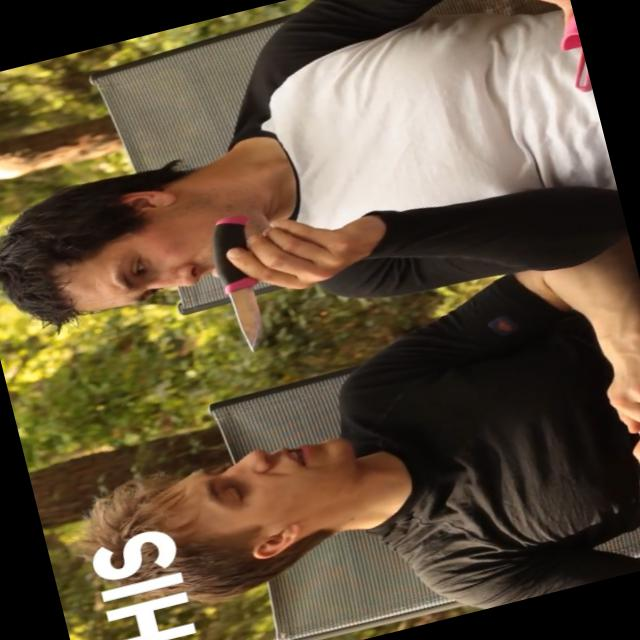knife: (191, 198, 310, 367)
